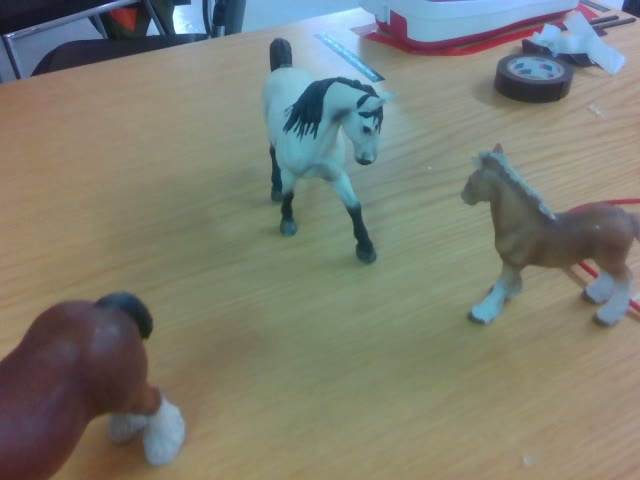toy: (264, 38, 394, 265)
